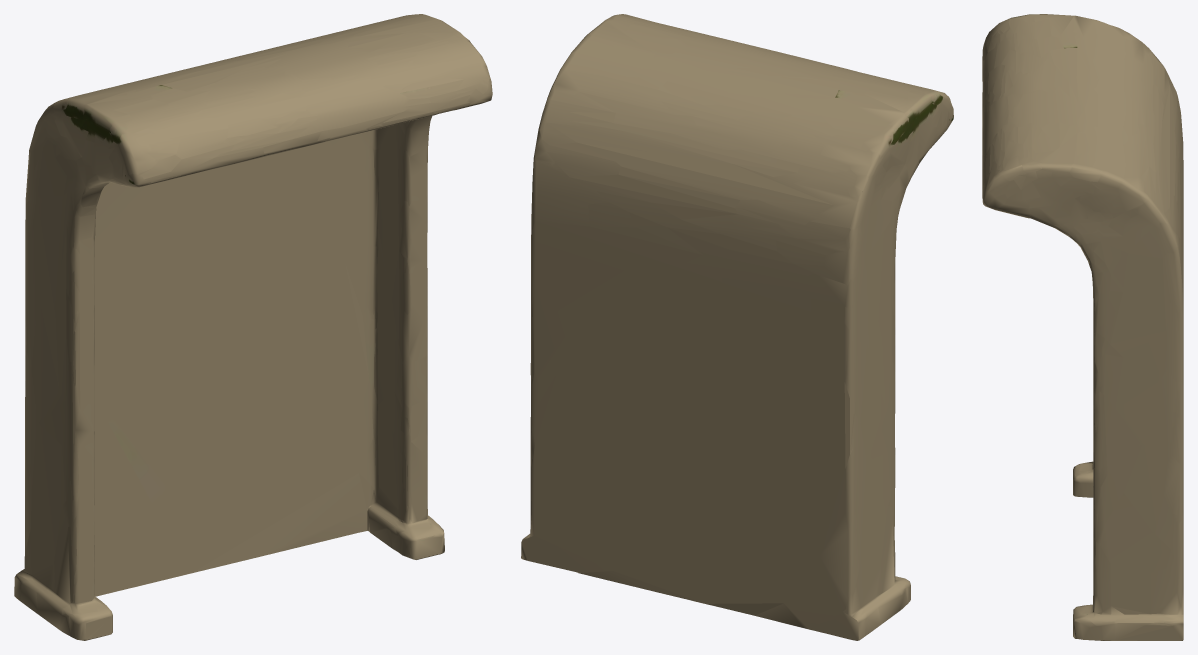
File: booth_prop.glb
3 views of the same model, side by side, from view 1: azimuth 30°, elevation 25°; view 2: azimuth 150°, elevation 25°; view 3: azimuth 270°, elevation 25° (orthographic). The views are drawn at different scales.
Parts seen in each view (by area): view 1: Mesh_0; view 2: Mesh_0; view 3: Mesh_0.
Boxes of the visible parts, box(x1,y1,x2,y2) form: Mesh_0: box(14, 14, 492, 640); Mesh_0: box(521, 14, 953, 640); Mesh_0: box(982, 14, 1183, 640).
Size of the model in its own units: 1.38 by 1.9 by 0.7346.
Materials: 1 (1 with a texture image).
